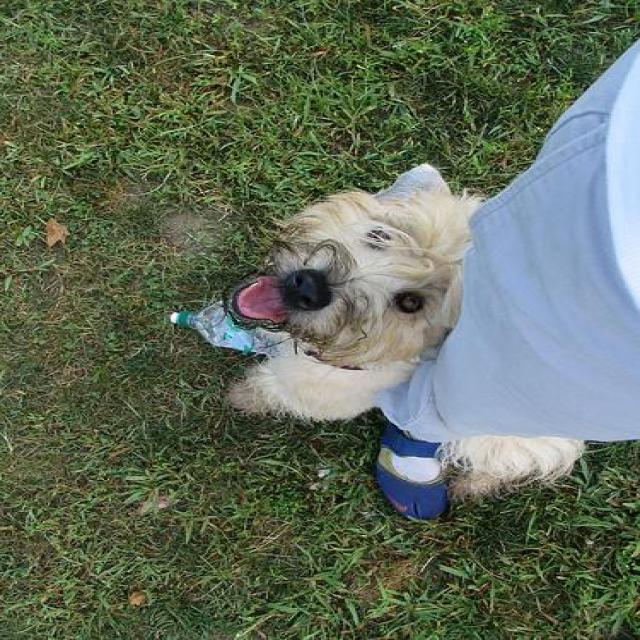adult_dog: (211, 157, 583, 498)
